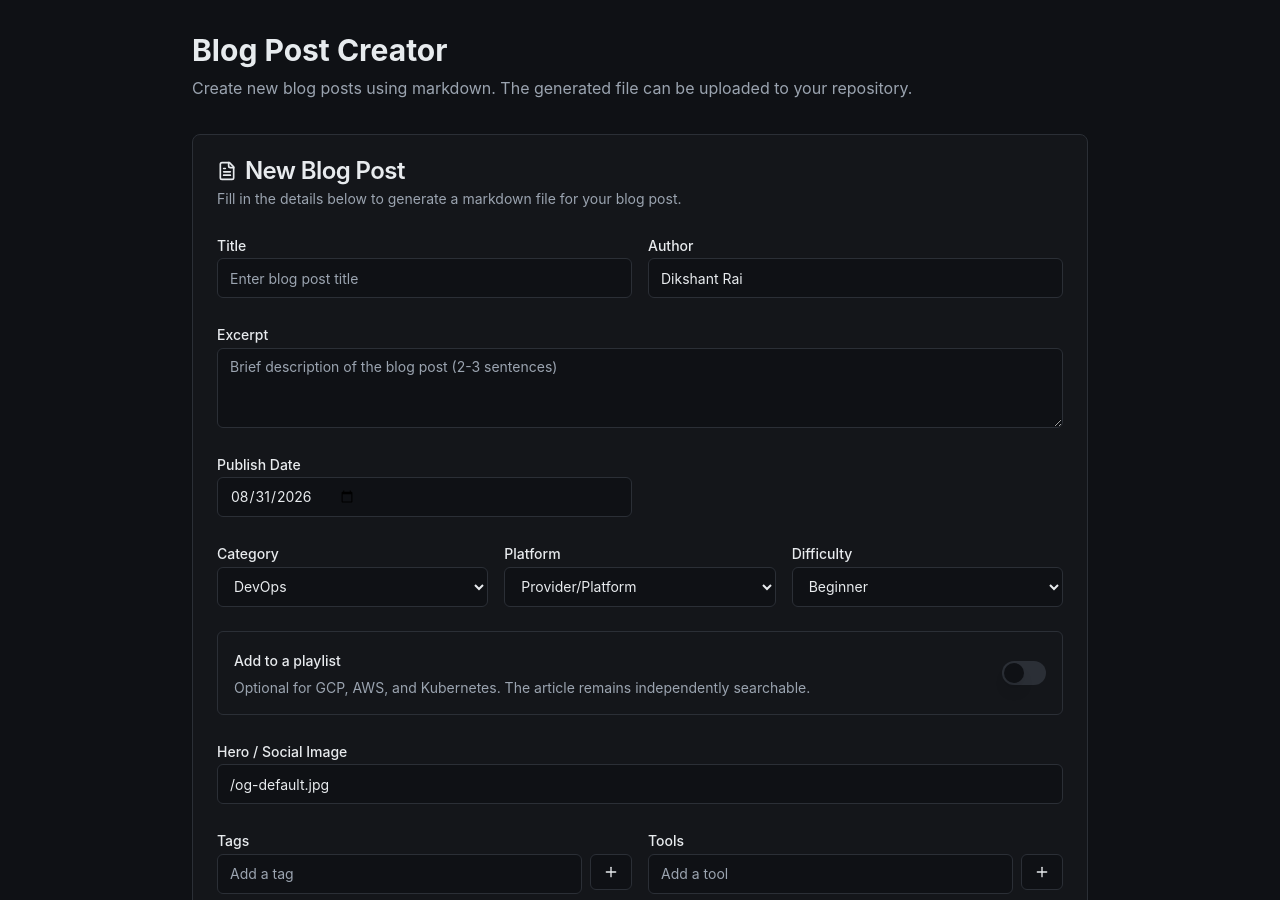
Scenario: Admin Page › reset form › clears all fields when reset is clicked
Step 1. Type "My Title" into the field labelled "Title" → (424, 278), box x1=217 y1=258 x2=632 y2=298
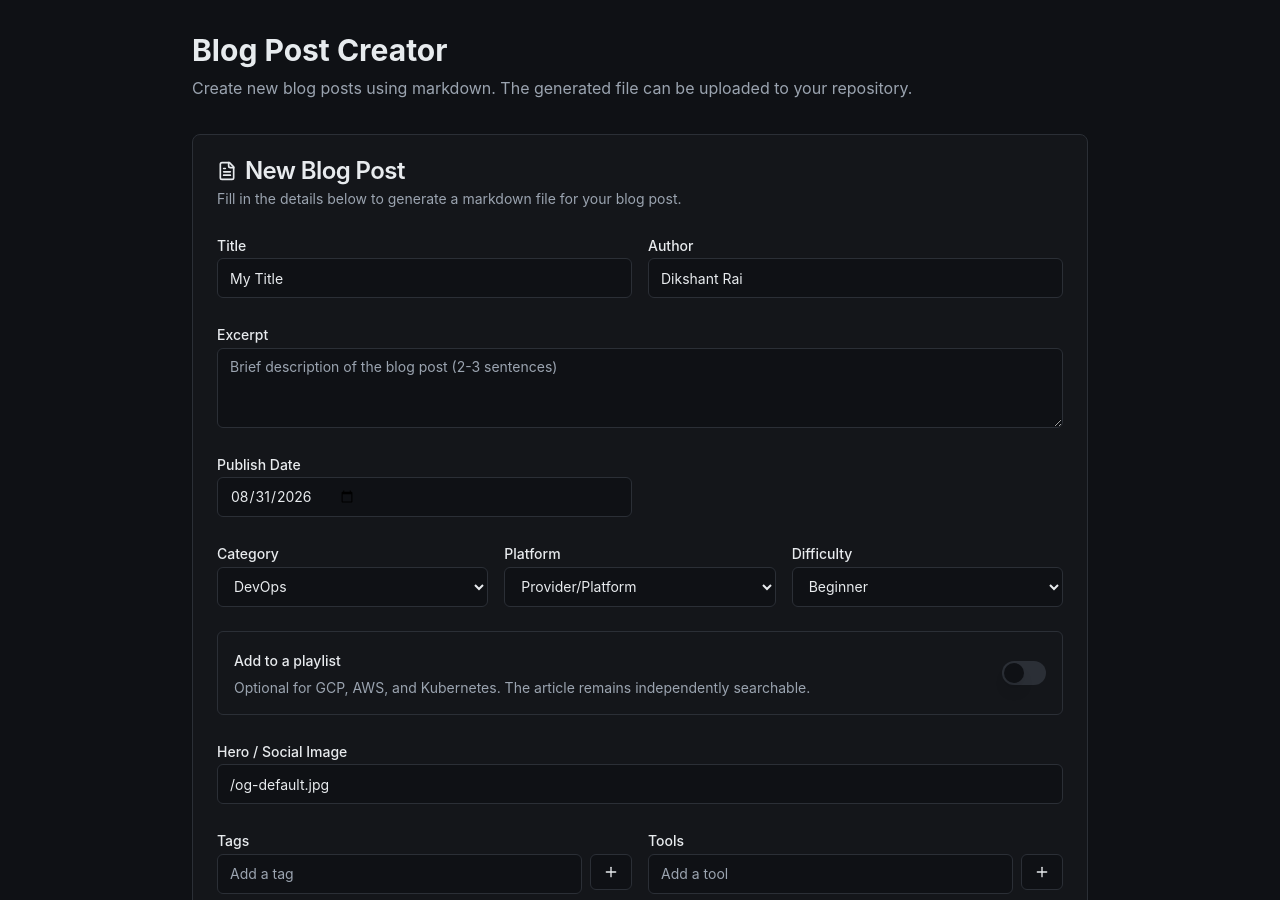
Step 2. Type "My Excerpt" into the text box labelled "Excerpt" → (640, 388), box x1=217 y1=348 x2=1063 y2=428
(page scrolled)
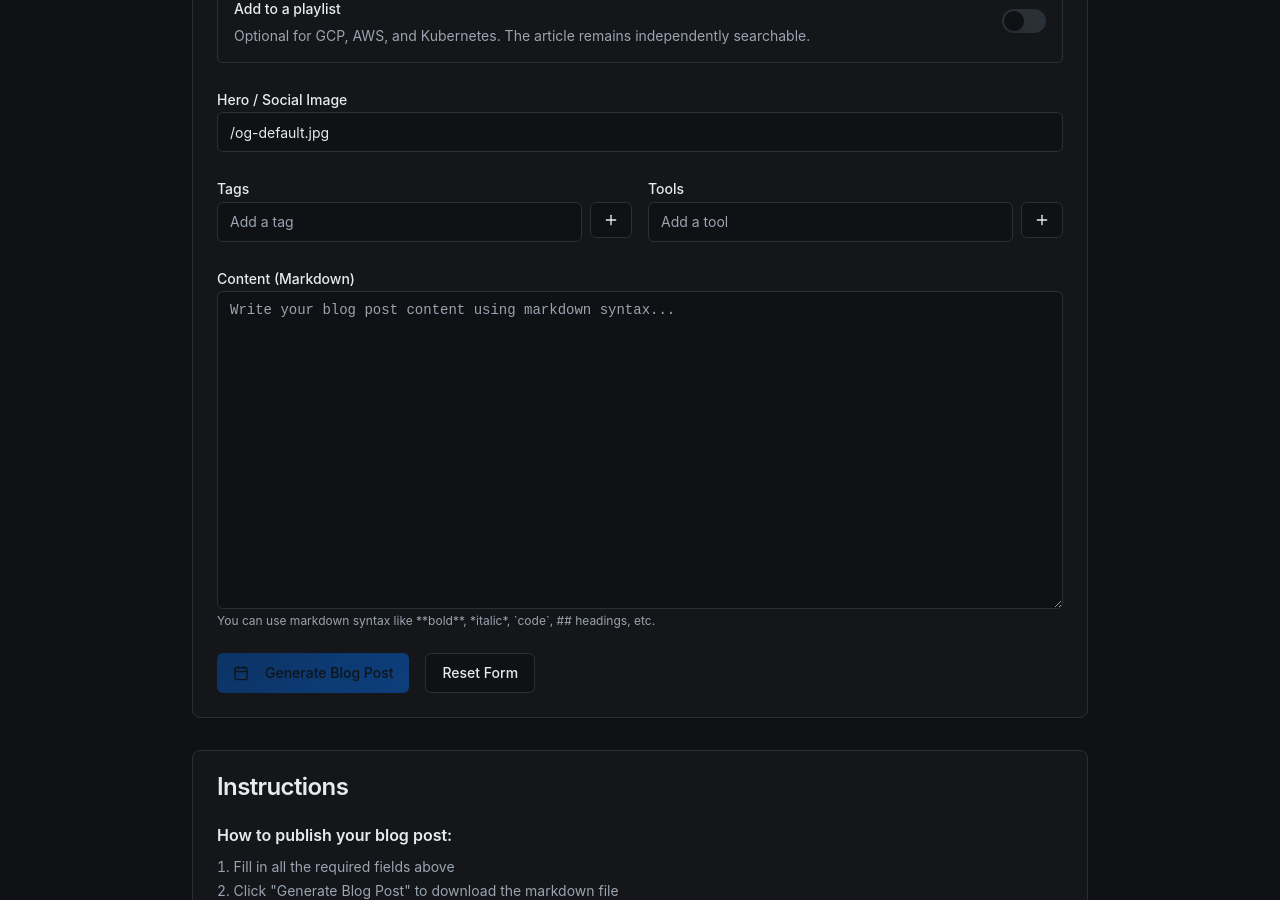
Step 3. Type "Content" into the text box labelled "Content (Markdown)" → (640, 450), box x1=217 y1=291 x2=1063 y2=609
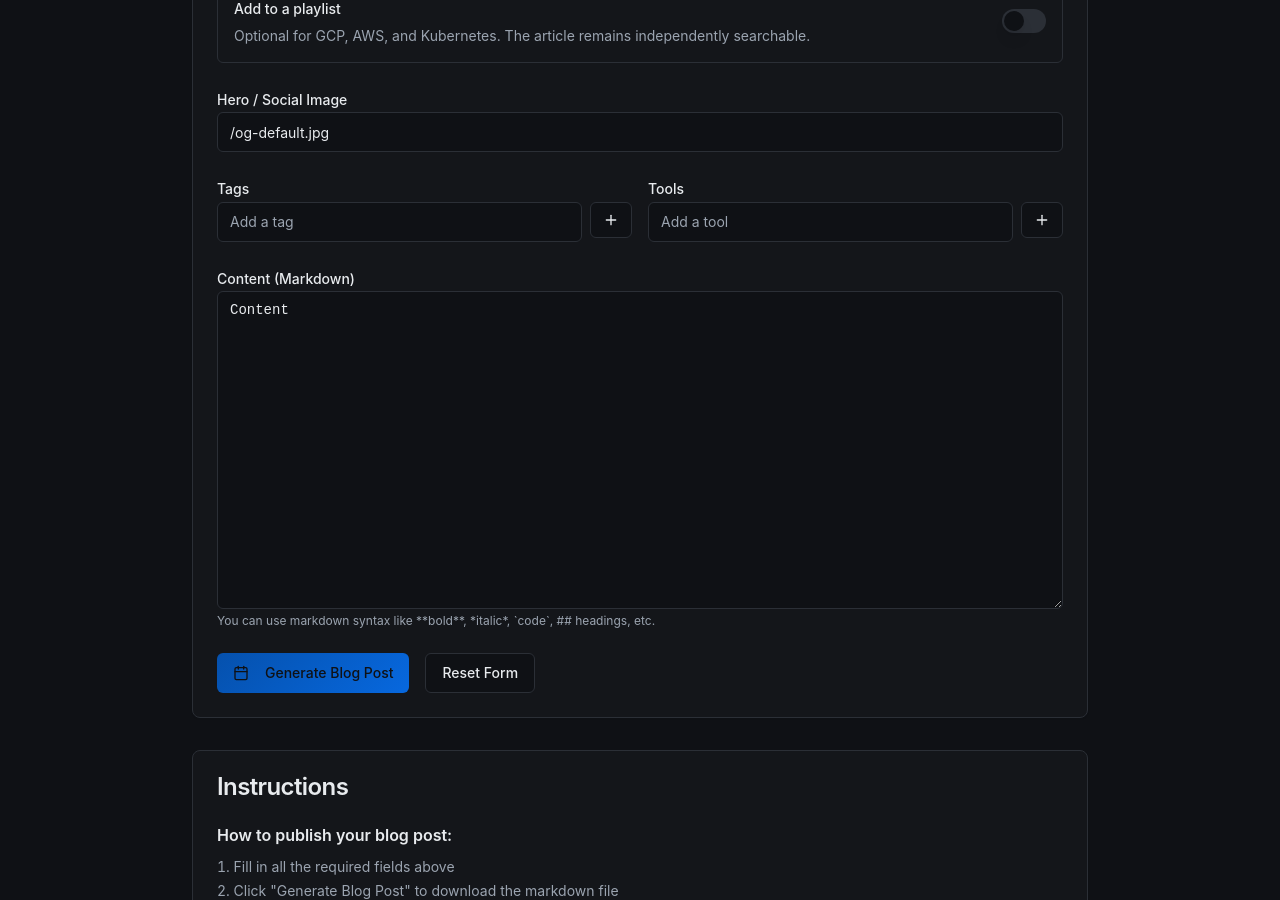
Step 4. Click the button "Reset Form" → (480, 673), box x1=426 y1=653 x2=535 y2=693
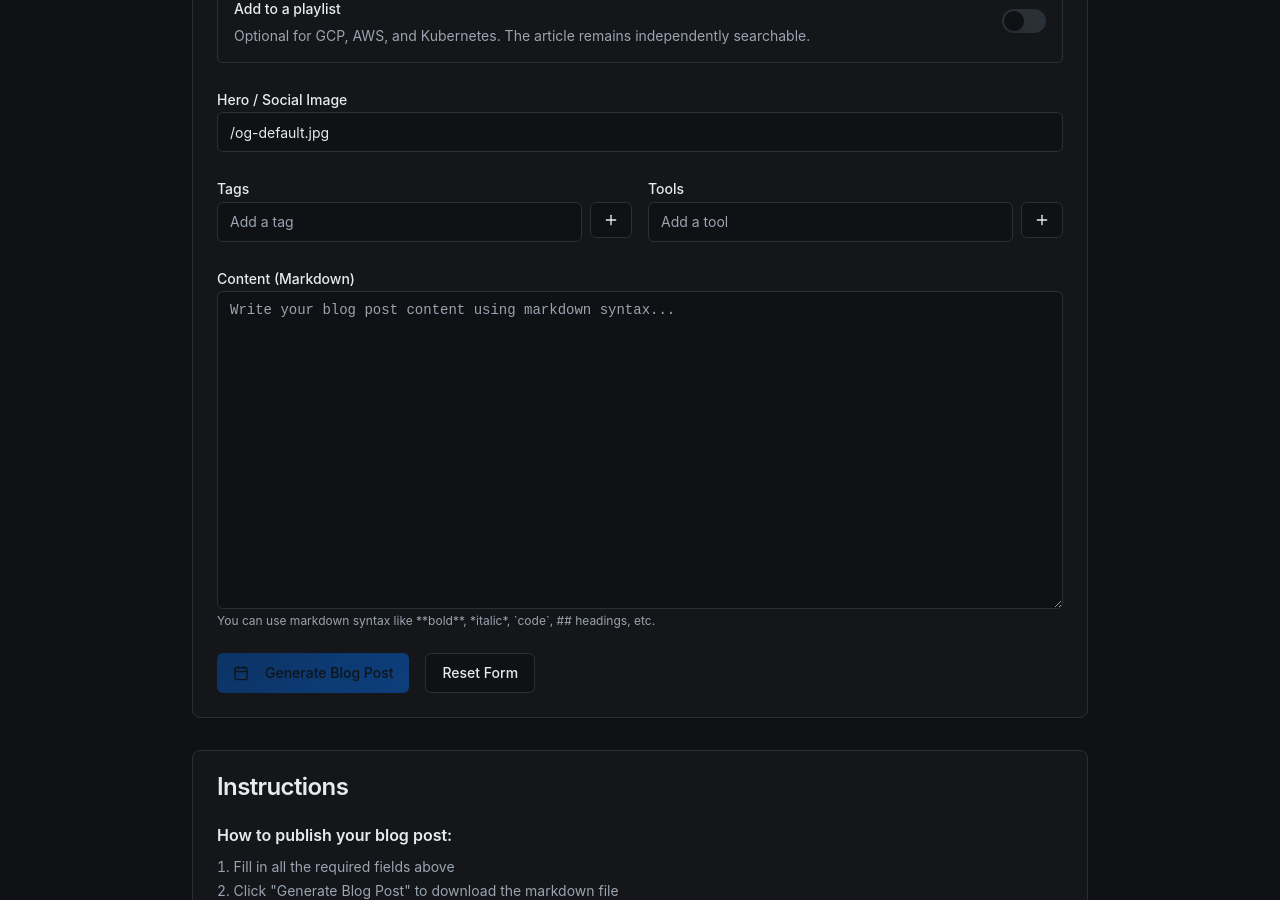
Result: the text box labelled "Content (Markdown)" is empty at x1=217 y1=291 x2=1063 y2=609
